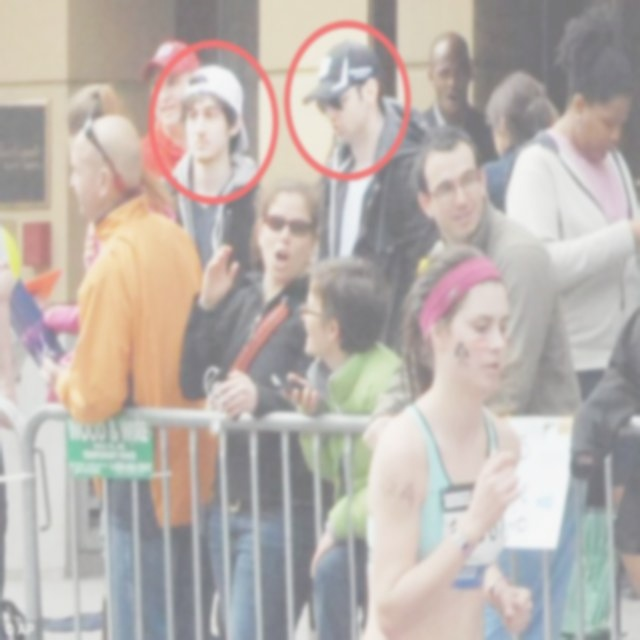pessoa: (403, 121, 588, 639), (36, 113, 211, 639), (176, 177, 335, 639), (356, 242, 538, 639), (502, 0, 640, 403), (17, 78, 181, 392), (286, 252, 415, 639), (302, 37, 439, 346), (158, 61, 268, 284), (570, 306, 639, 632), (0, 228, 34, 623), (478, 68, 558, 210), (418, 25, 499, 164), (133, 37, 204, 186)
